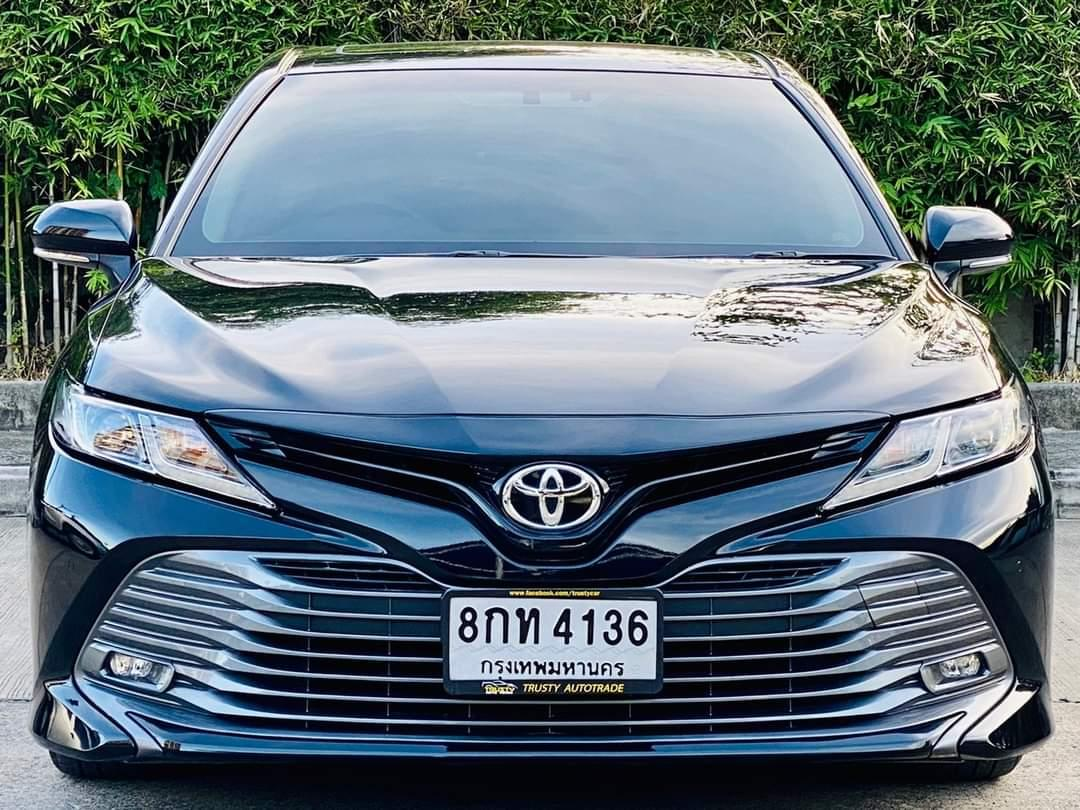license-plate: (439, 584, 666, 701)
